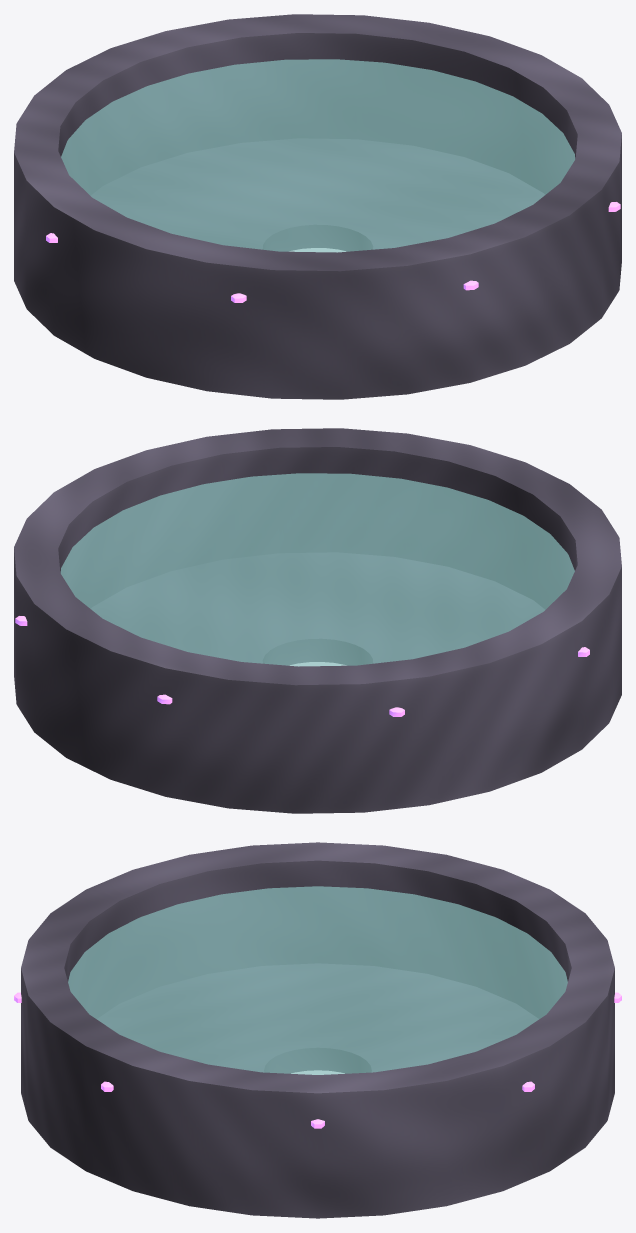
File: Furn_Dun_Spring.fbx
3 views of the same model, one above another, from view 1: azimuth 30°, elevation 25°; view 2: azimuth 150°, elevation 25°; view 3: azimuth 270°, elevation 25° (orthographic). The views are drawn at different scales.
Parts seen in each view (by area): view 1: Furn_Dun_Spring, Water; view 2: Furn_Dun_Spring, Water; view 3: Furn_Dun_Spring, Water.
Part boxes in pixels (x1=…): Furn_Dun_Spring: x1=14, y1=14, x2=621, y2=399; Water: x1=61, y1=59, x2=575, y2=252; Furn_Dun_Spring: x1=14, y1=428, x2=621, y2=813; Water: x1=60, y1=473, x2=574, y2=666; Furn_Dun_Spring: x1=14, y1=842, x2=621, y2=1218; Water: x1=68, y1=886, x2=567, y2=1074.
Size of the model in its own units: 2.2 by 0.5 by 2.2.
3 materials, 1 textured.
